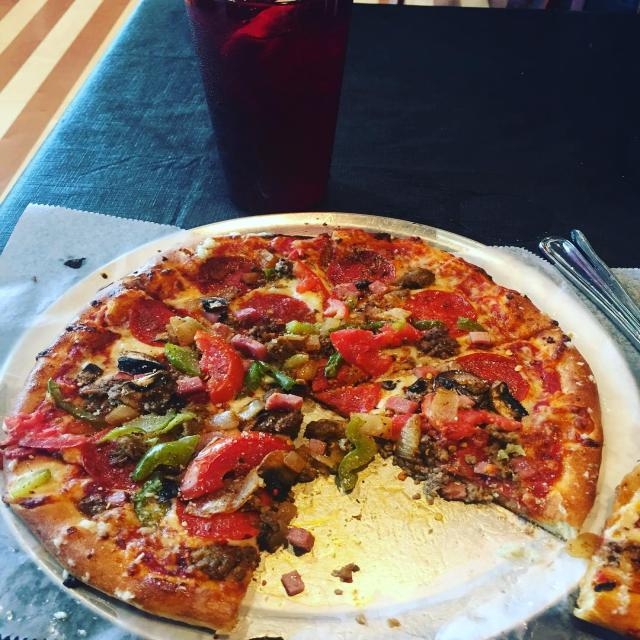mushrooms: (74, 364, 179, 418), (252, 446, 311, 494), (480, 378, 535, 427), (434, 367, 487, 404), (109, 345, 170, 375), (248, 404, 300, 437), (104, 435, 152, 467), (392, 264, 442, 292), (190, 292, 231, 317), (302, 417, 340, 440), (400, 376, 430, 404)
pepperoni: (459, 443, 555, 508), (396, 278, 477, 341), (174, 496, 269, 542), (463, 345, 536, 404), (232, 288, 320, 330), (73, 436, 136, 489), (325, 247, 393, 294), (122, 292, 172, 351), (186, 255, 248, 298), (17, 424, 104, 453), (312, 381, 376, 416)
pizza: (3, 229, 603, 630)
tomatoes: (179, 430, 291, 495), (381, 407, 521, 452), (326, 320, 423, 379), (185, 328, 249, 407)
